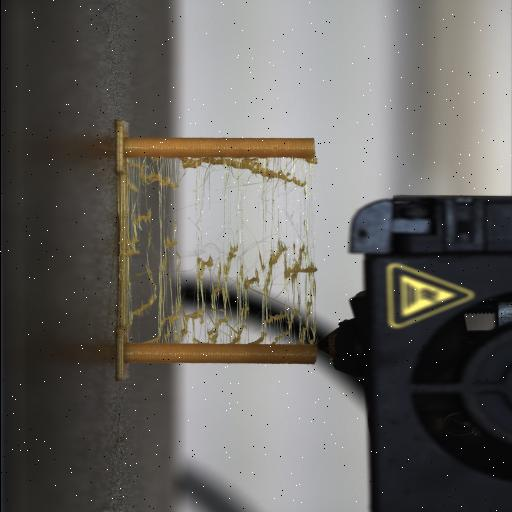stringing: (126, 156, 314, 344)
